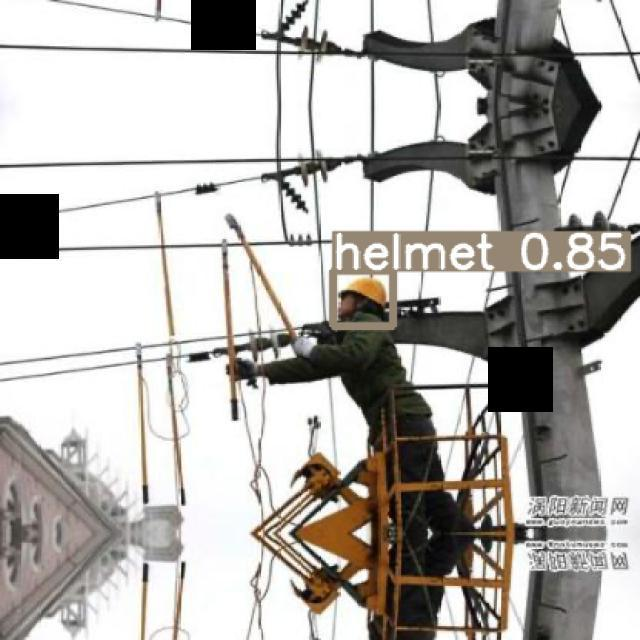yellow helmet: (339, 280, 389, 308)
